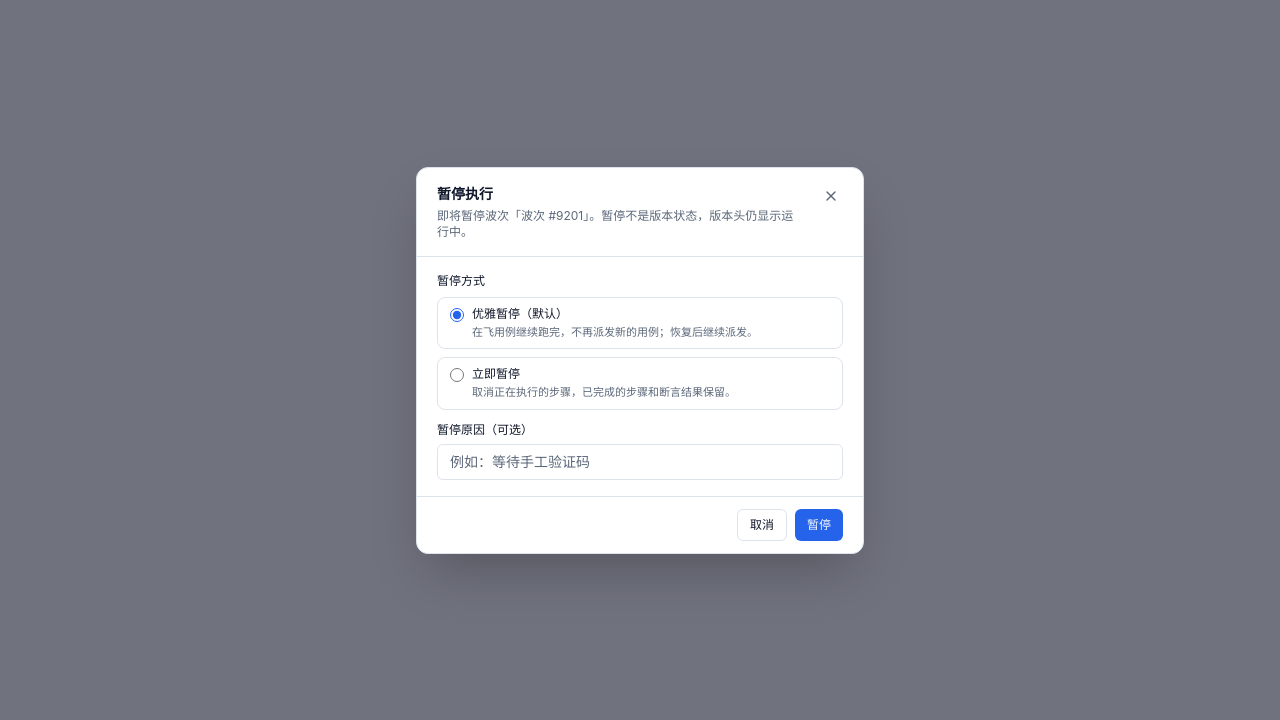
Test: PauseDialog › shows the API error and keeps the dialog open when the pause fails
Click the button "暂停".
click(819, 524)  # box [795,508,843,540]
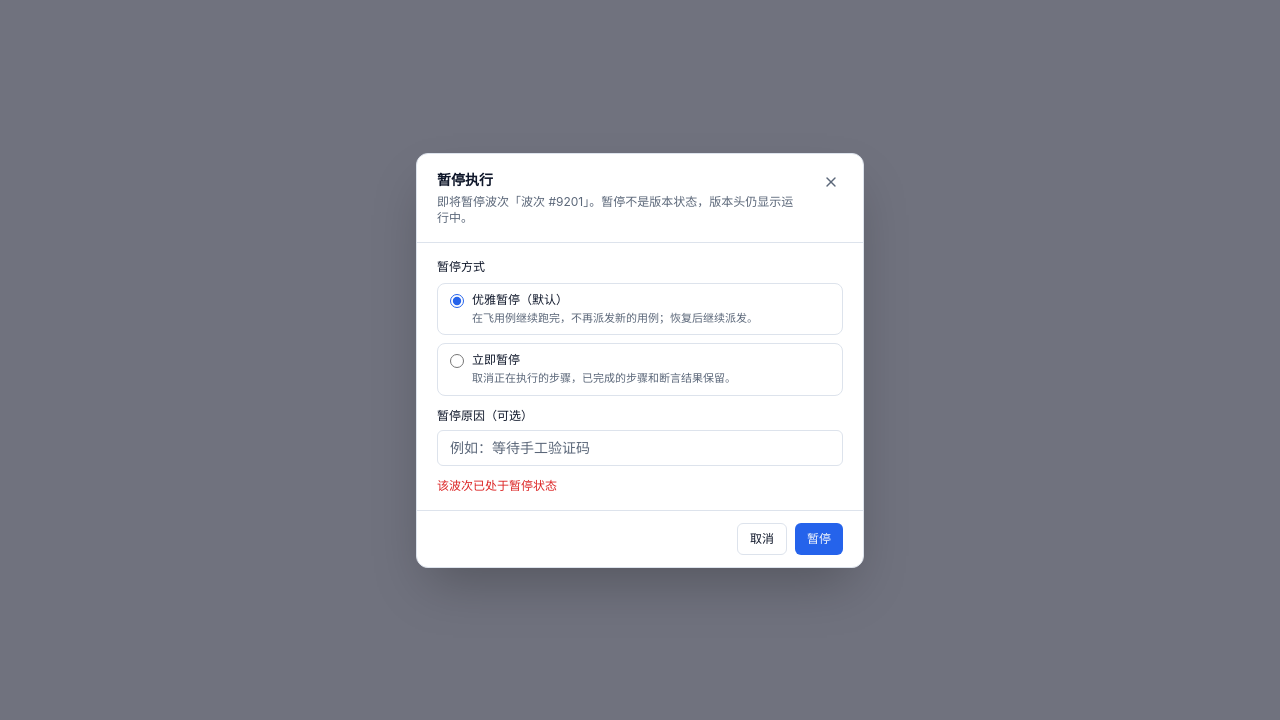
Expected: the dialog "暂停执行" is shown, [416,152,864,568]
Expected: the text "该波次已处于暂停状态" is shown, [437,478,557,492]
